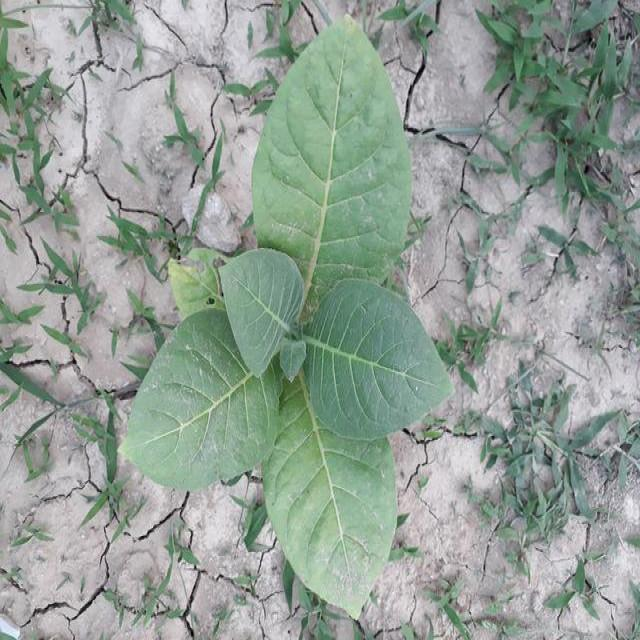crop: (128, 27, 430, 608)
